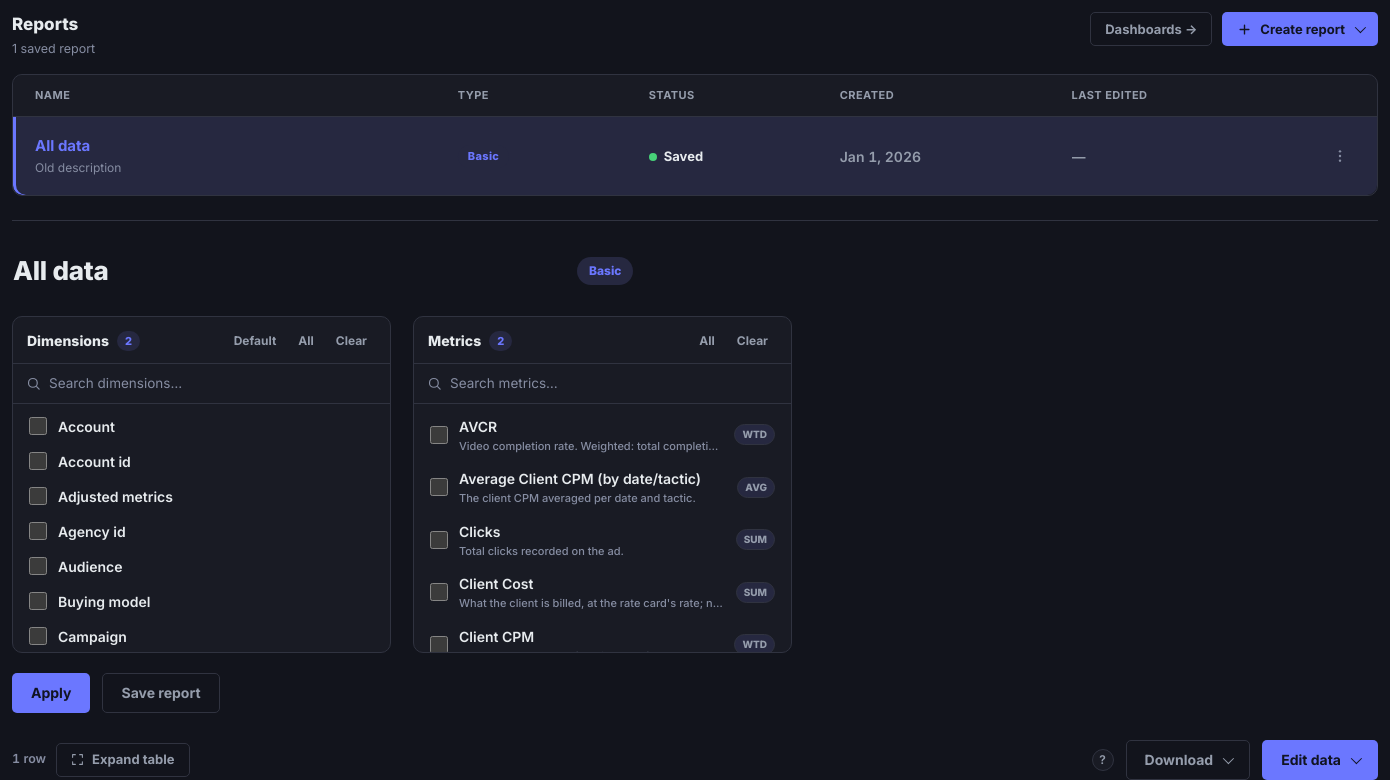
it: ReportingTab reports list › should disable Apply once every dimension and metric is cleared
Expected: the button "Apply" is enabled, [12,672,90,712]
# clear both pickers
Step 1. Click the button "Clear" in the row of "Dimensions" → click(351, 341), box [327,329,376,352]
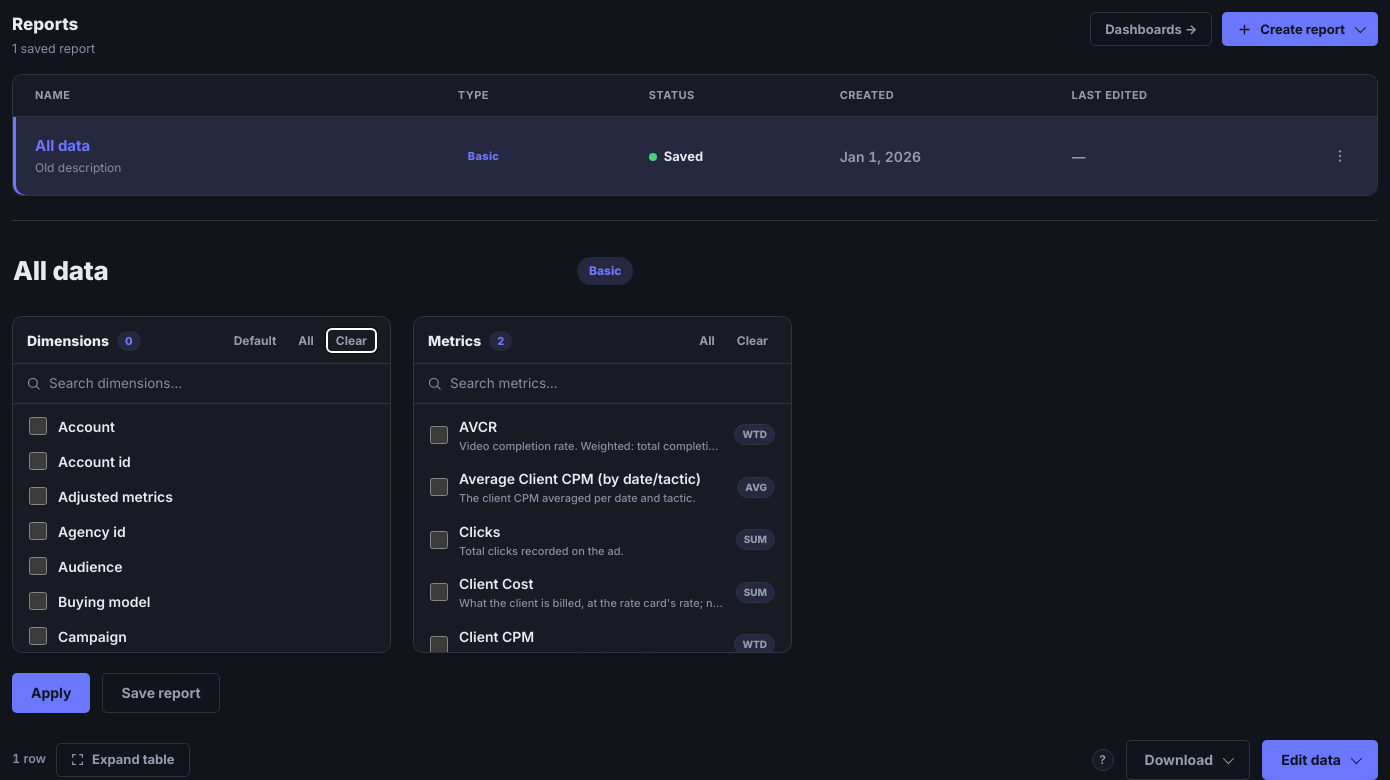
Step 2. Click the 2nd button "Clear" → click(752, 341), box [728,329,777,352]
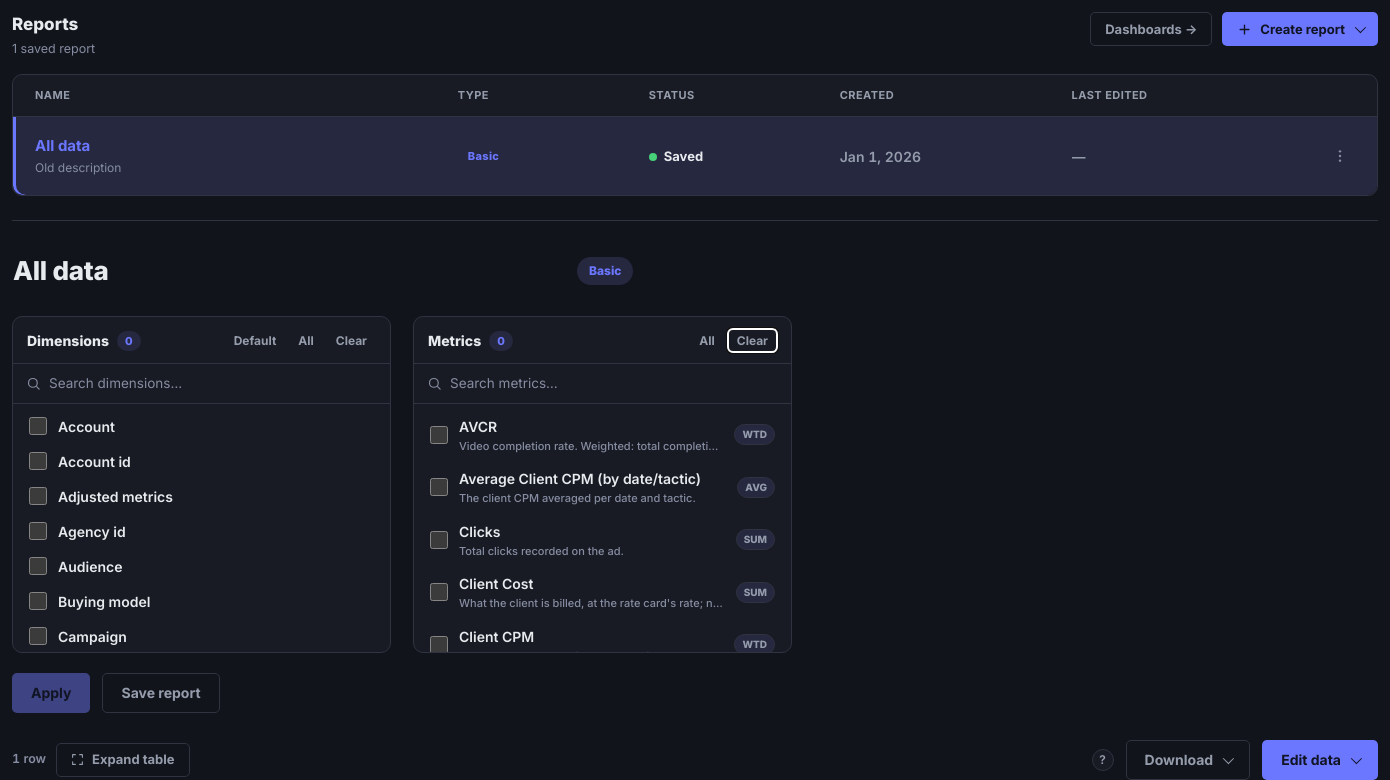
Now the button "Apply" is disabled, box [12,672,90,712]
